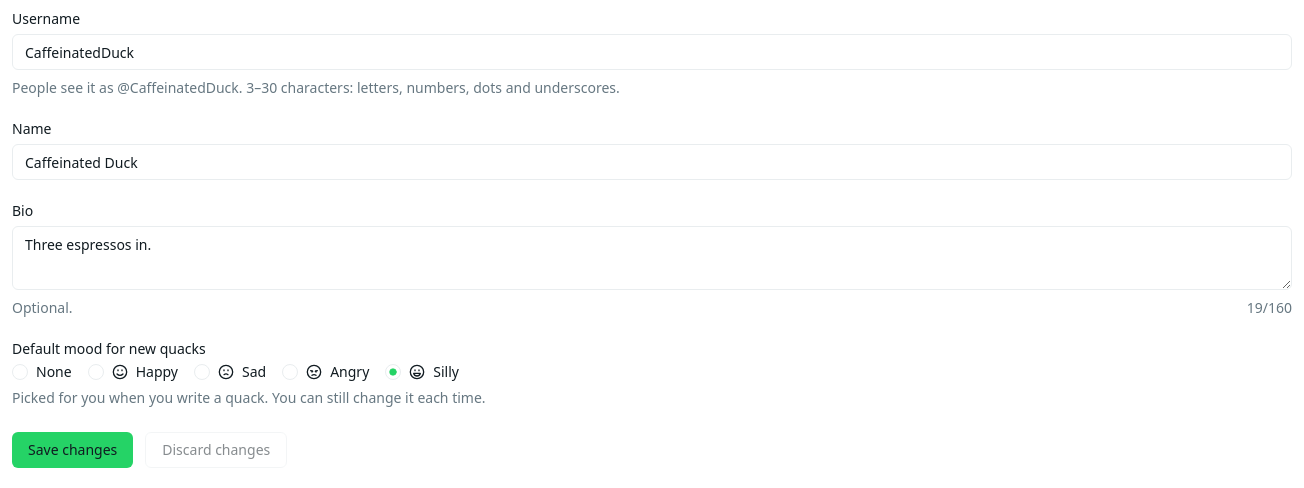
Test: ProfileForm › focus › stays on Discard after discarding
The image size is (1304, 488).
Type "_new" into the field labelled "Username".
click(652, 52); type("_new")  # box [12,34,1292,70]
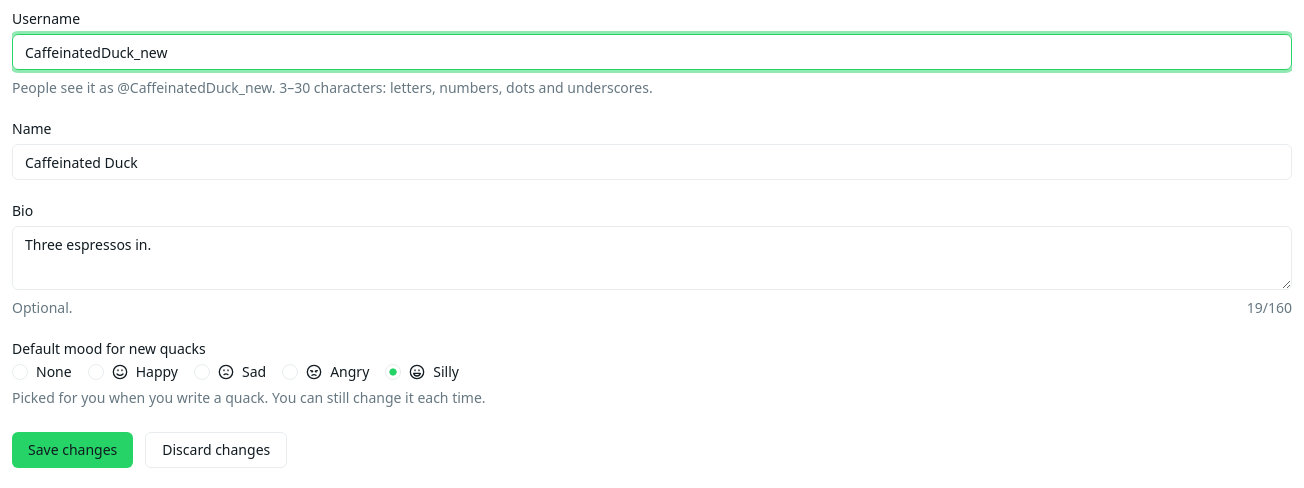
Click the button "Discard changes".
click(216, 450)  # box [145,432,287,468]
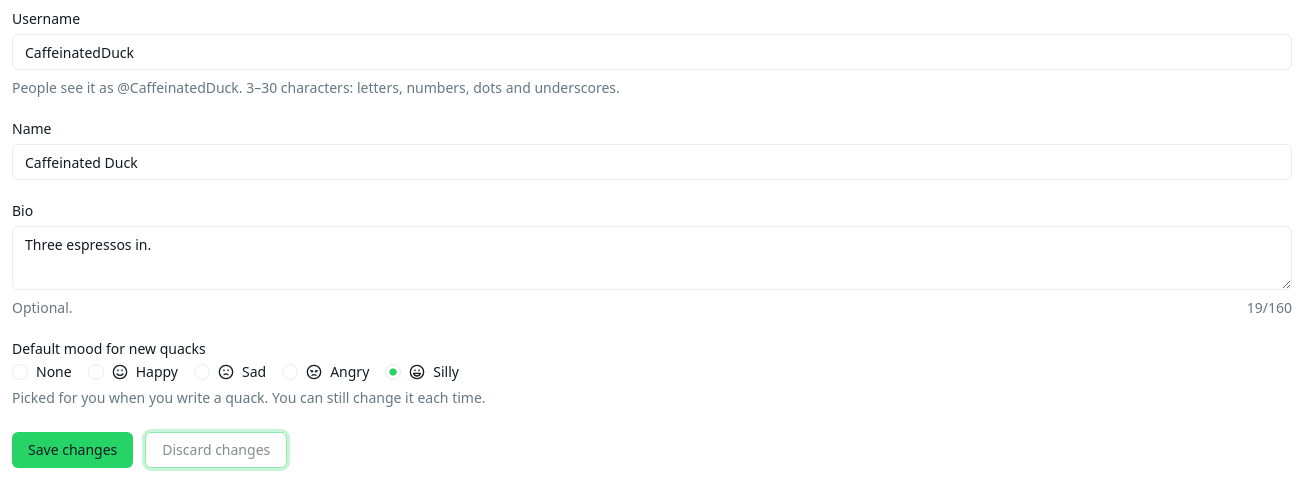
Check: the field labelled "Username" holds "CaffeinatedDuck", box [12,34,1292,70]
